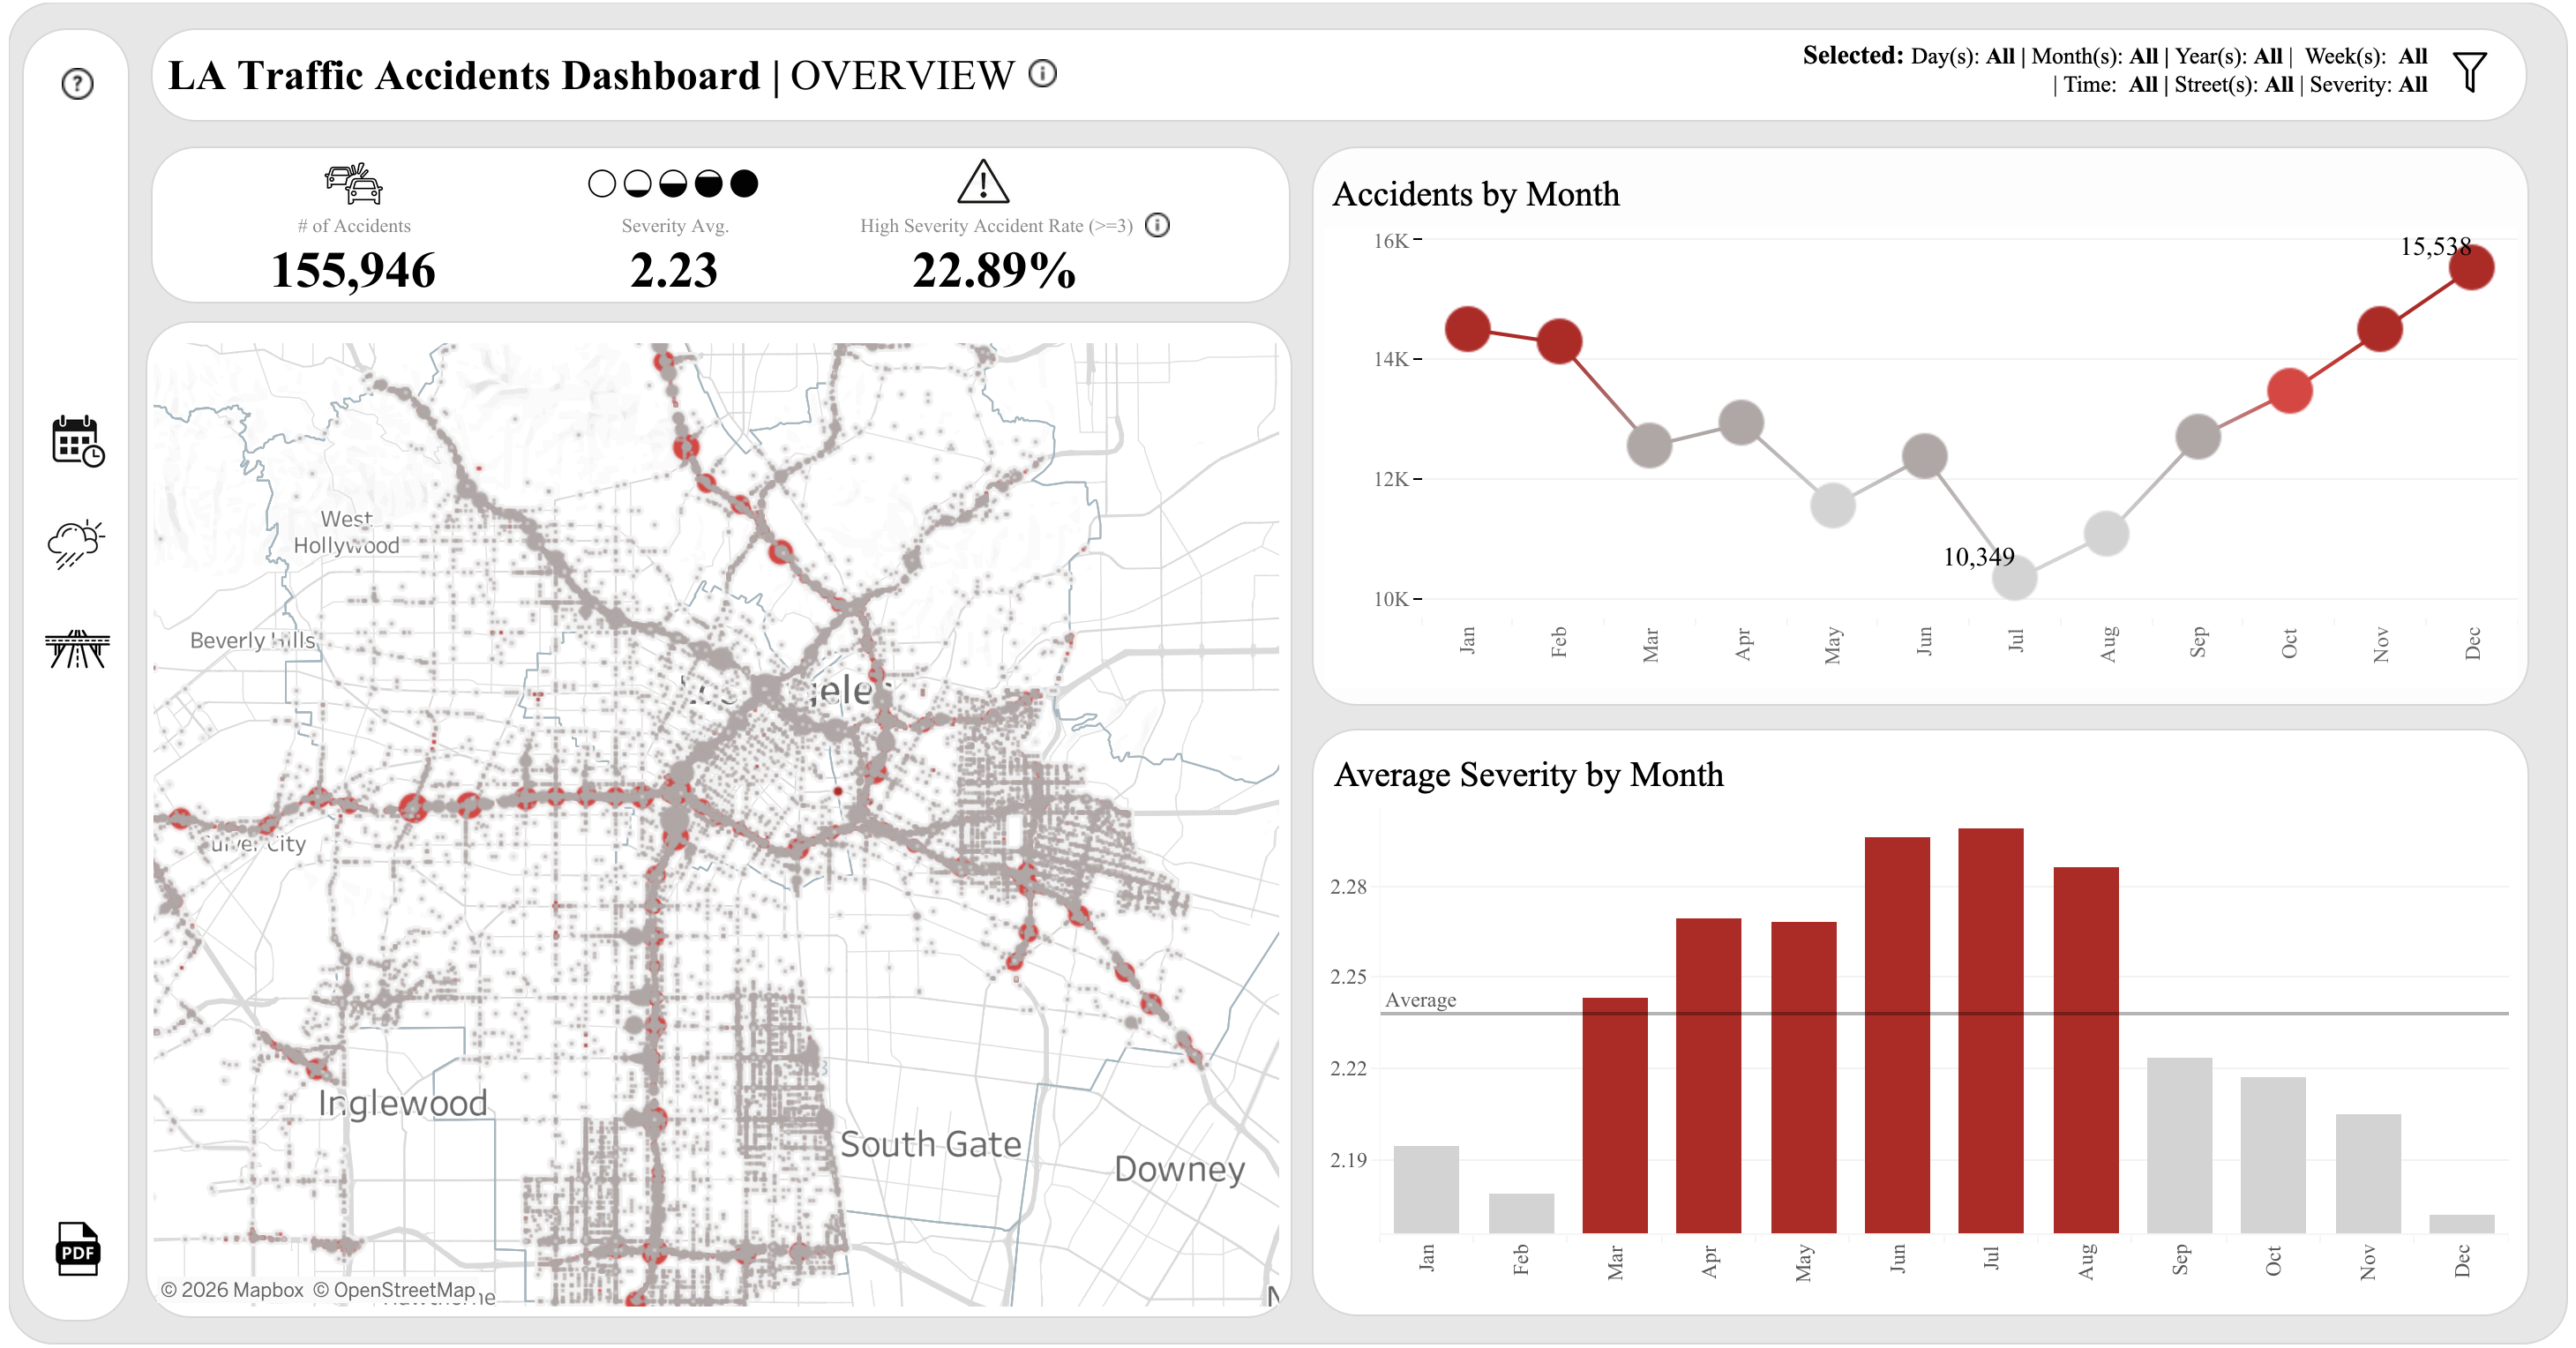

The page's visual inventory and layout, read from the dashboard file:
{"tool":"tableau","page":{"name":"Dashboard Main","canvas":[1500,800],"ordinal":0},"visuals":[{"type":"worksheet","title":"Main Layout","mark":"Automatic","box":[8,8,1484,784]},{"type":"worksheet","title":"How to use","mark":"Shape","box":[28,39,46,52]},{"type":"worksheet","title":"Info Button","mark":"Shape","box":[583,40,30,39]},{"type":"worksheet","title":"Filters","mark":"Automatic","box":[781,42,617,49]},{"type":"dashboard-object","box":[1389,47,36,39]},{"type":"filter","title":"Main Layout","param":"[federated.1x2u0le0p5pgvr19lqojt0kljg3i].[none:Calculation_0029854191792147:nk]","box":[1266,94,158,41.9]},{"type":"image","param":"Image/number of accidents icon.png","box":[190,112,42,35]},{"type":"image","param":"Image/danger icon.png","box":[547,113,43,30]},{"type":"worksheet","title":"Accidents 1","mark":"Line","rows":["accident_id","accident_id"],"cols":["Calculation_0029853827149827"],"box":[758,117,676,298]},{"type":"image","param":"Image/severity levels.png","box":[340,121,111,17]},{"type":"worksheet","title":"Severity Button","mark":"Shape","box":[649,121,28,48]},{"type":"worksheet","title":"KPIs","mark":"Automatic","box":[117,126,606,82]},{"type":"filter","title":"Main Layout","param":"[federated.1x2u0le0p5pgvr19lqojt0kljg3i].[mn:Calculation_0029853827149827:ok]","box":[1266,135.9,158,41.9]},{"type":"filter","title":"Accidents 1","param":"[federated.1x2u0le0p5pgvr19lqojt0kljg3i].[none:year:ok]","box":[1266,177.7,158,41.9]},{"type":"worksheet","title":"Map","mark":"Automatic","rows":["start_lat"],"cols":["start_lng"],"box":[94,205,638,561]},{"type":"filter","title":"Accidents 1","param":"[federated.1x2u0le0p5pgvr19lqojt0kljg3i].[none:week_number:ok]","box":[1266,219.6,158,41.9]},{"type":"dashboard-object","box":[28,254,44,44]},{"type":"filter","title":"Main Layout","param":"[federated.1x2u0le0p5pgvr19lqojt0kljg3i].[none:la_hourly_local_time:nk]","box":[1266,261.4,158,41.9]},{"type":"filter","title":"Main Layout","param":"[federated.1x2u0le0p5pgvr19lqojt0kljg3i].[none:street:nk]","box":[1266,303.3,158,41.9]},{"type":"dashboard-object","box":[31,316,39,39]},{"type":"filter","title":"Map","param":"[federated.1x2u0le0p5pgvr19lqojt0kljg3i].[none:severity:ok]","box":[1266,345.1,158,41.9]},{"type":"dashboard-object","box":[30,374,42,38]},{"type":"worksheet","title":"Accidents 2","mark":"Bar","rows":["severity"],"cols":["Calculation_0029853827149827"],"box":[759,446,670,319]},{"type":"dashboard-object","box":[27,712,49,42]}]}

Visuals, with their boxes in screenshot pixels (x1, y1, x2, y2), scaled from the page's 1500x800 canvas onto the 2576x1348 screenshot:
"Main Layout" worksheet: <bbox>14, 13, 2562, 1335</bbox>
"How to use" worksheet (Shape marks): <bbox>49, 65, 127, 154</bbox>
"Info Button" worksheet (Shape marks): <bbox>1001, 67, 1052, 133</bbox>
"Filters" worksheet: <bbox>1341, 71, 2400, 154</bbox>
dashboard-object: <bbox>2385, 79, 2447, 145</bbox>
"Main Layout" filter: <bbox>2174, 159, 2445, 229</bbox>
image: <bbox>326, 189, 399, 248</bbox>
image: <bbox>940, 191, 1014, 241</bbox>
"Accidents 1" worksheet (Line marks): <bbox>1302, 197, 2463, 700</bbox>
image: <bbox>584, 204, 775, 233</bbox>
"Severity Button" worksheet (Shape marks): <bbox>1114, 204, 1163, 285</bbox>
"KPIs" worksheet: <bbox>201, 213, 1241, 350</bbox>
"Main Layout" filter: <bbox>2174, 229, 2445, 300</bbox>
"Accidents 1" filter: <bbox>2174, 299, 2445, 370</bbox>
"Map" worksheet: <bbox>161, 346, 1257, 1291</bbox>
"Accidents 1" filter: <bbox>2174, 370, 2445, 440</bbox>
dashboard-object: <bbox>49, 428, 124, 502</bbox>
"Main Layout" filter: <bbox>2174, 440, 2445, 511</bbox>
"Main Layout" filter: <bbox>2174, 511, 2445, 581</bbox>
dashboard-object: <bbox>53, 533, 120, 598</bbox>
"Map" filter: <bbox>2174, 581, 2445, 652</bbox>
dashboard-object: <bbox>51, 630, 124, 694</bbox>
"Accidents 2" worksheet (Bar marks): <bbox>1304, 752, 2454, 1289</bbox>
dashboard-object: <bbox>47, 1200, 131, 1270</bbox>
